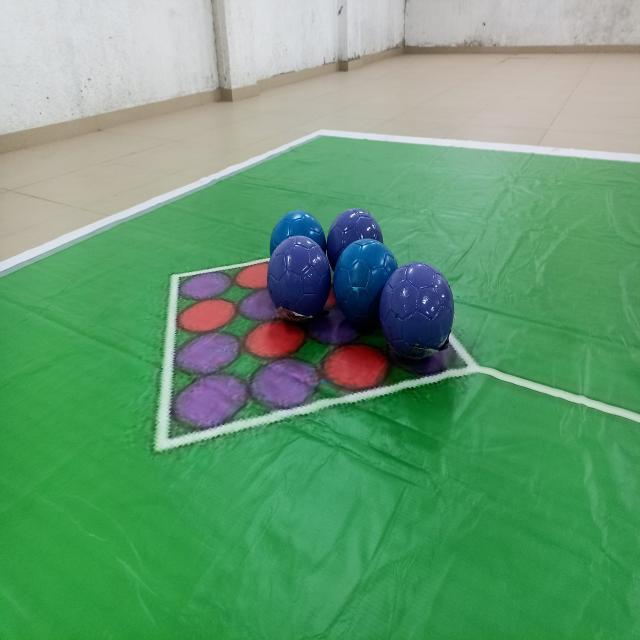blue_ball: (335, 239, 394, 320), (271, 211, 326, 255)
purple_ball: (381, 264, 454, 357), (270, 239, 331, 309), (326, 210, 386, 256)
